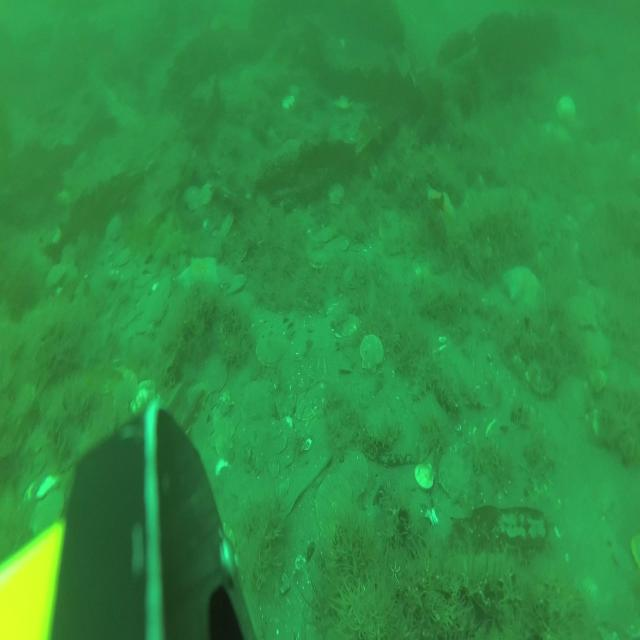holothurian: (410, 365, 438, 400)
scallop: (314, 471, 354, 535), (556, 368, 593, 424), (29, 486, 64, 538), (439, 448, 471, 504), (241, 378, 273, 426), (526, 352, 556, 400), (341, 450, 370, 499), (110, 360, 139, 406), (566, 289, 597, 331), (254, 330, 289, 366), (129, 379, 159, 419), (202, 352, 228, 398), (296, 383, 325, 424), (359, 333, 385, 374), (212, 413, 236, 457), (140, 290, 168, 327), (307, 245, 333, 272), (336, 312, 361, 340), (555, 93, 578, 122), (182, 184, 203, 215), (415, 460, 435, 491), (152, 274, 174, 302), (225, 271, 247, 298), (343, 264, 363, 293), (44, 262, 66, 288), (218, 210, 236, 240), (114, 246, 135, 269), (328, 181, 344, 209), (318, 223, 337, 244), (199, 181, 213, 207)
starfish: (175, 252, 222, 297), (504, 259, 543, 310)
